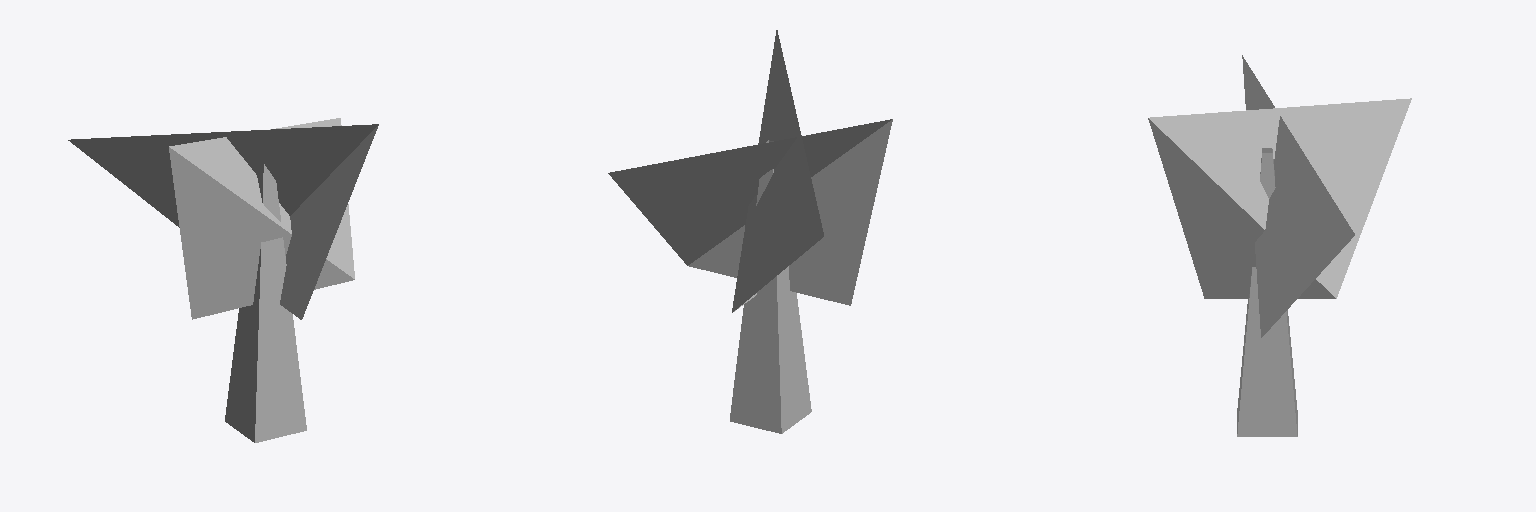
Rendered from shrubTreeb.obj.
The picture shows the model from 3 angles: view 1: azimuth 30°, elevation 25°; view 2: azimuth 150°, elevation 25°; view 3: azimuth 270°, elevation 25°; orthographic projection.
Parts seen in each view (by area): view 1: Default; view 2: Default; view 3: Default.
Boxes of the visible parts, <box> form: Default: <box>68,118,378,442</box>; Default: <box>608,30,892,433</box>; Default: <box>1148,55,1411,436</box>.
Bounding box in the file's own units: 0.9375 × 1.22 × 0.875.